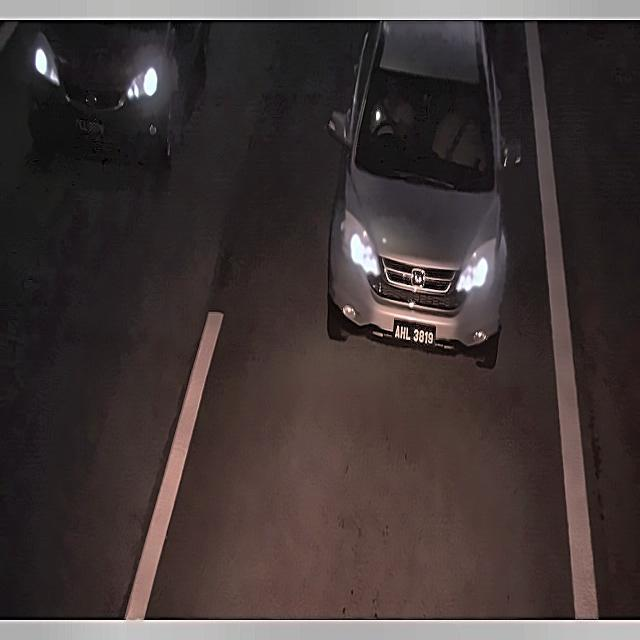car: (389, 308, 440, 350), (69, 112, 116, 146)
